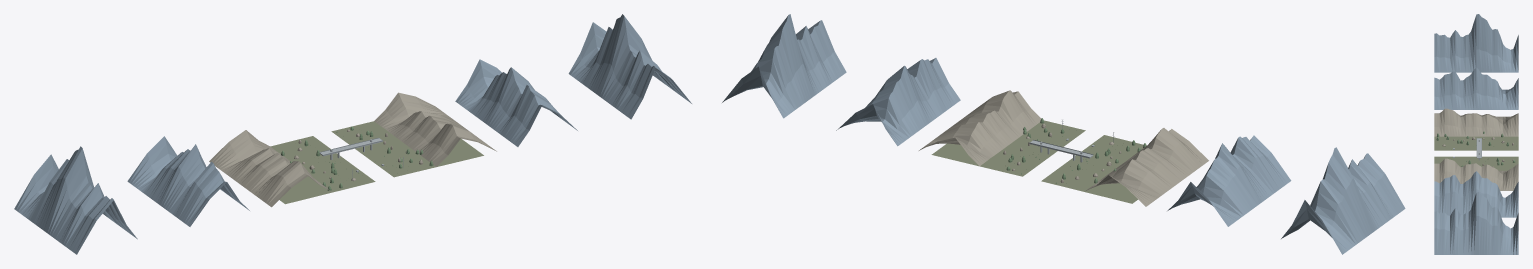
The model's file is open_mountain.glb.
3 views of the same model, side by side, from view 1: azimuth 30°, elevation 25°; view 2: azimuth 150°, elevation 25°; view 3: azimuth 270°, elevation 25° (orthographic). The views are drawn at different scales.
Parts seen in each view (by area): view 1: RidgeHorizon, RidgeFar, RidgeNear, Terrain, Vegetation, Overpass; view 2: RidgeHorizon, RidgeFar, RidgeNear, Terrain, Overpass, Vegetation; view 3: RidgeHorizon, RidgeFar, RidgeNear, Terrain, Vegetation, Overpass, Rocks.
Boxes of the visible parts, box(x1,y1,x2,y2) form: RidgeHorizon: box(14, 14, 691, 254); RidgeFar: box(127, 59, 577, 226); RidgeNear: box(209, 92, 496, 207); Terrain: box(270, 121, 483, 204); Vegetation: box(281, 126, 433, 190); Overpass: box(319, 137, 383, 159); RidgeHorizon: box(722, 14, 1405, 254); RidgeFar: box(836, 58, 1291, 226); RidgeNear: box(919, 90, 1208, 206); Terrain: box(931, 120, 1143, 203); Overpass: box(1029, 139, 1093, 162); Vegetation: box(1006, 118, 1146, 183); RidgeHorizon: box(1434, 14, 1518, 254); RidgeFar: box(1434, 67, 1518, 217); RidgeNear: box(1434, 108, 1518, 190); Terrain: box(1434, 136, 1518, 170); Vegetation: box(1436, 131, 1516, 166); Overpass: box(1476, 138, 1481, 160); Rocks: box(1442, 137, 1513, 167).
Bounding box in the file's own units: 680 × 79.64 × 120.
